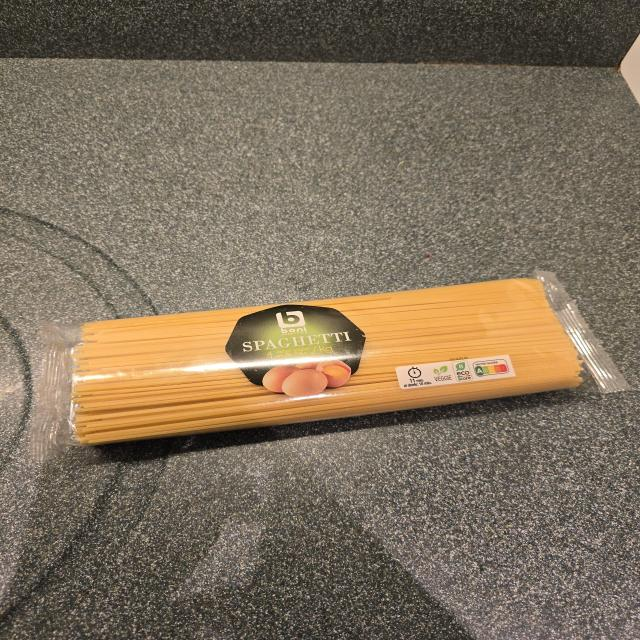Pasta: (59, 268, 626, 453)
